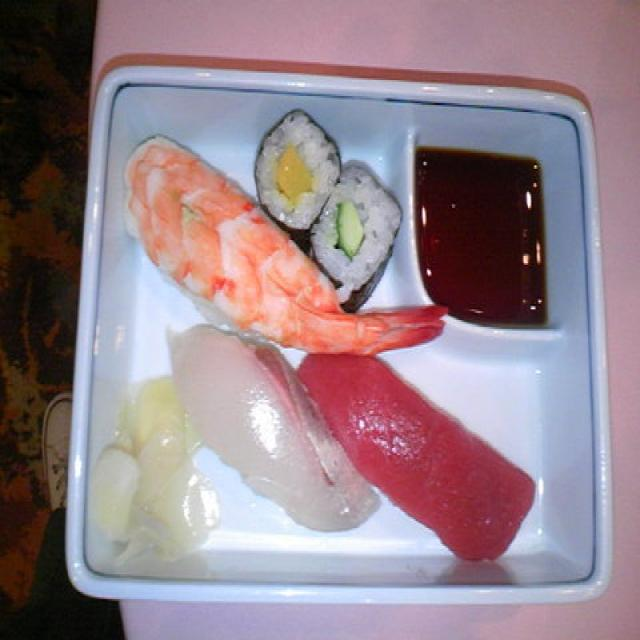寿司卷物: (125, 101, 396, 562)
